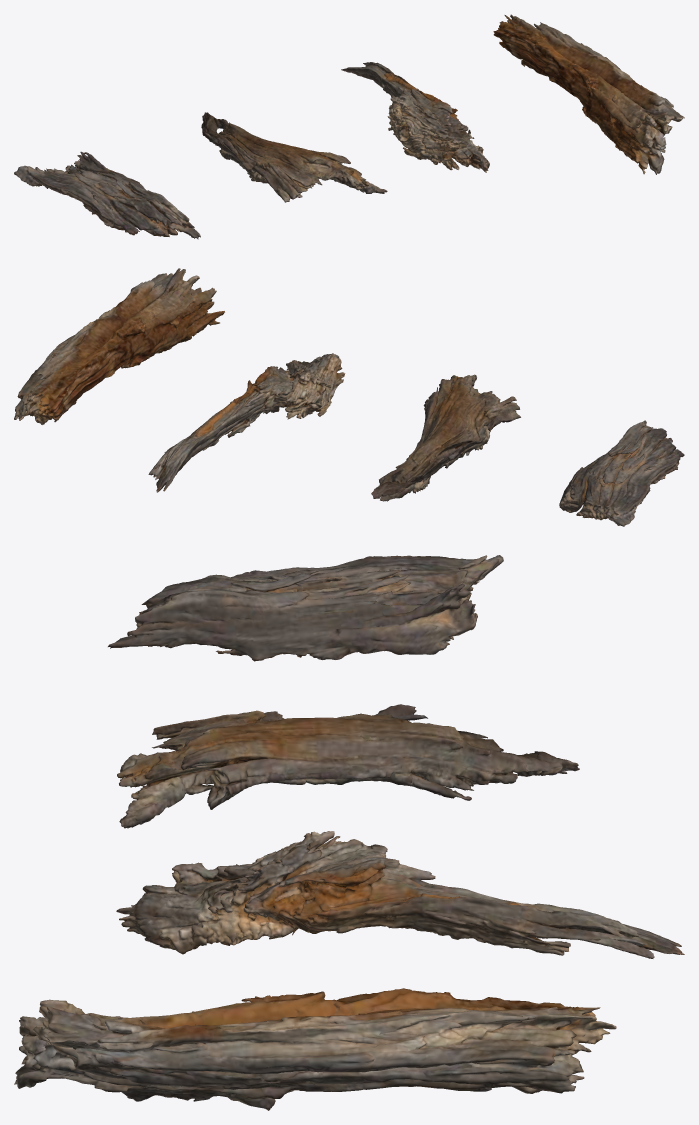
3 views of the same model, one above another, from view 1: azimuth 30°, elevation 25°; view 2: azimuth 150°, elevation 25°; view 3: azimuth 270°, elevation 25° (orthographic). The views are drawn at different scales.
Visible parts, largest first — view 1: bark_debris_01_d, bark_debris_01_a, bark_debris_01_b, bark_debris_01_c; view 2: bark_debris_01_d, bark_debris_01_b, bark_debris_01_c, bark_debris_01_a; view 3: bark_debris_01_d, bark_debris_01_c, bark_debris_01_a, bark_debris_01_b.
Part boxes in pixels (box(x1,y1,x2,y2)): bark_debris_01_d: box(493, 14, 684, 174); bark_debris_01_a: box(14, 151, 200, 239); bark_debris_01_b: box(201, 112, 387, 202); bark_debris_01_c: box(341, 62, 489, 172); bark_debris_01_d: box(14, 268, 224, 424); bark_debris_01_b: box(371, 374, 520, 501); bark_debris_01_c: box(148, 353, 345, 492); bark_debris_01_a: box(559, 420, 684, 526); bark_debris_01_d: box(14, 988, 616, 1110); bark_debris_01_c: box(116, 831, 684, 958); bark_debris_01_a: box(108, 555, 503, 661); bark_debris_01_b: box(117, 704, 579, 828).
Bounding box in the file's own units: 1.21 × 0.1122 × 0.6745.
Materials: 1 (1 with a texture image).
